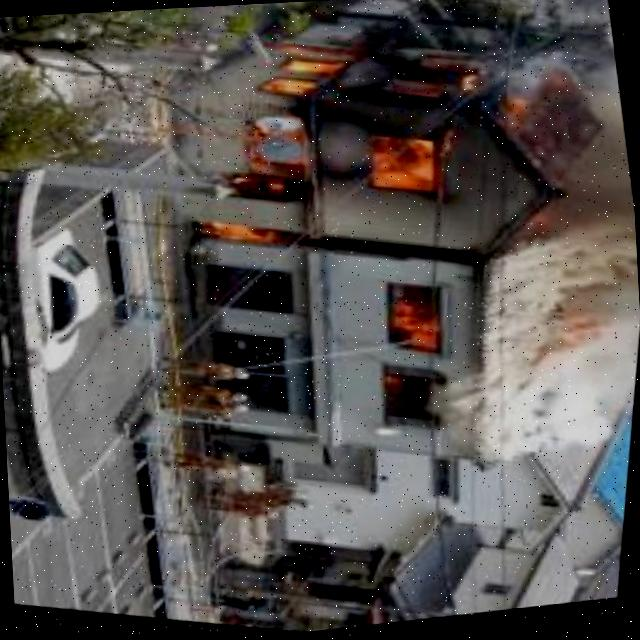fire: (177, 0, 603, 315), (365, 281, 458, 411)
